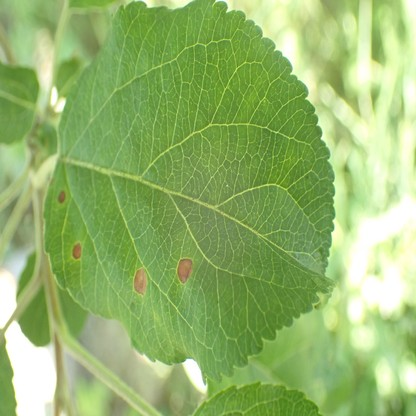frogeye_leaf_spot: (176, 256, 193, 285), (133, 267, 147, 296), (73, 241, 82, 260), (58, 190, 66, 204)
